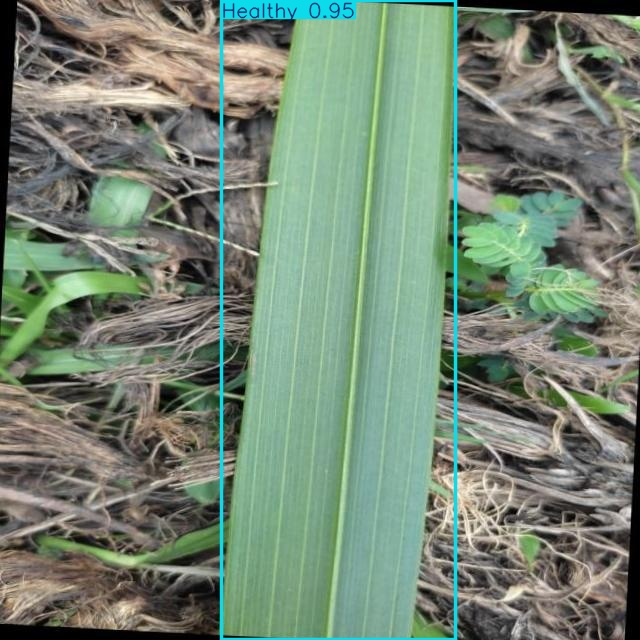Healthy: (221, 1, 456, 640)
